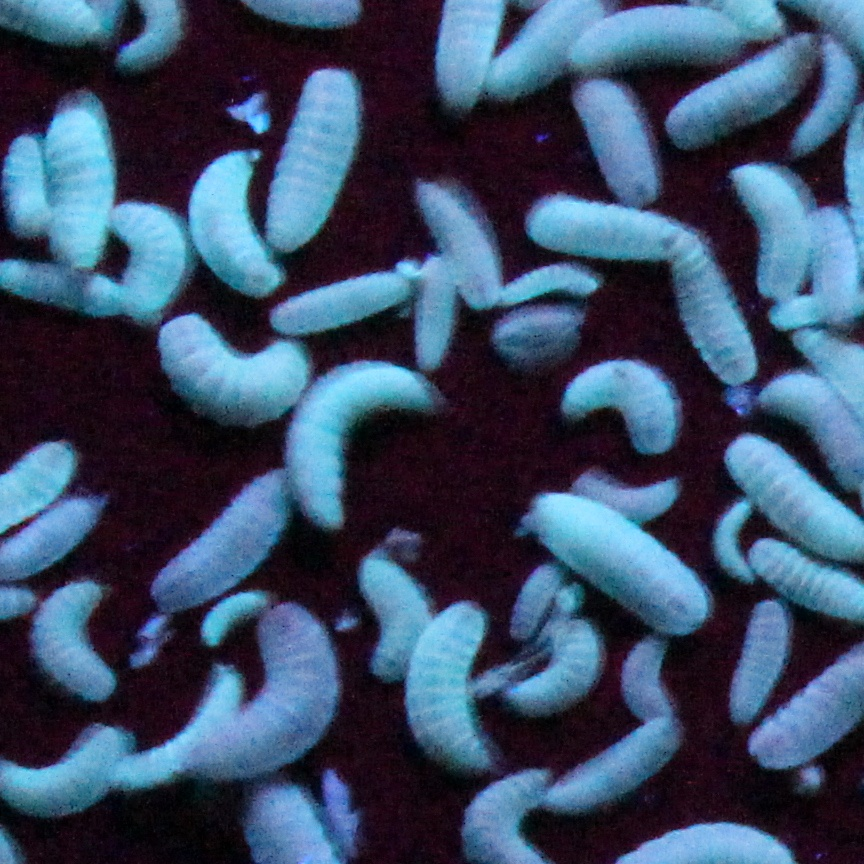larve: (188, 602, 343, 783), (285, 351, 443, 528), (530, 491, 710, 635), (150, 464, 295, 612), (156, 305, 313, 431), (261, 65, 366, 252), (116, 662, 244, 791), (403, 601, 498, 773), (665, 225, 756, 389), (403, 175, 510, 313), (190, 148, 286, 294), (568, 61, 658, 213), (531, 193, 708, 269), (543, 715, 681, 812), (721, 164, 816, 301), (42, 89, 112, 272), (560, 355, 676, 461), (30, 580, 116, 703), (267, 268, 420, 335), (105, 202, 182, 335), (358, 553, 436, 681), (508, 619, 603, 721), (732, 600, 791, 726), (568, 459, 680, 525), (403, 251, 458, 370), (811, 204, 864, 319), (486, 258, 604, 306), (622, 628, 675, 726), (513, 551, 568, 638), (712, 498, 758, 583)
